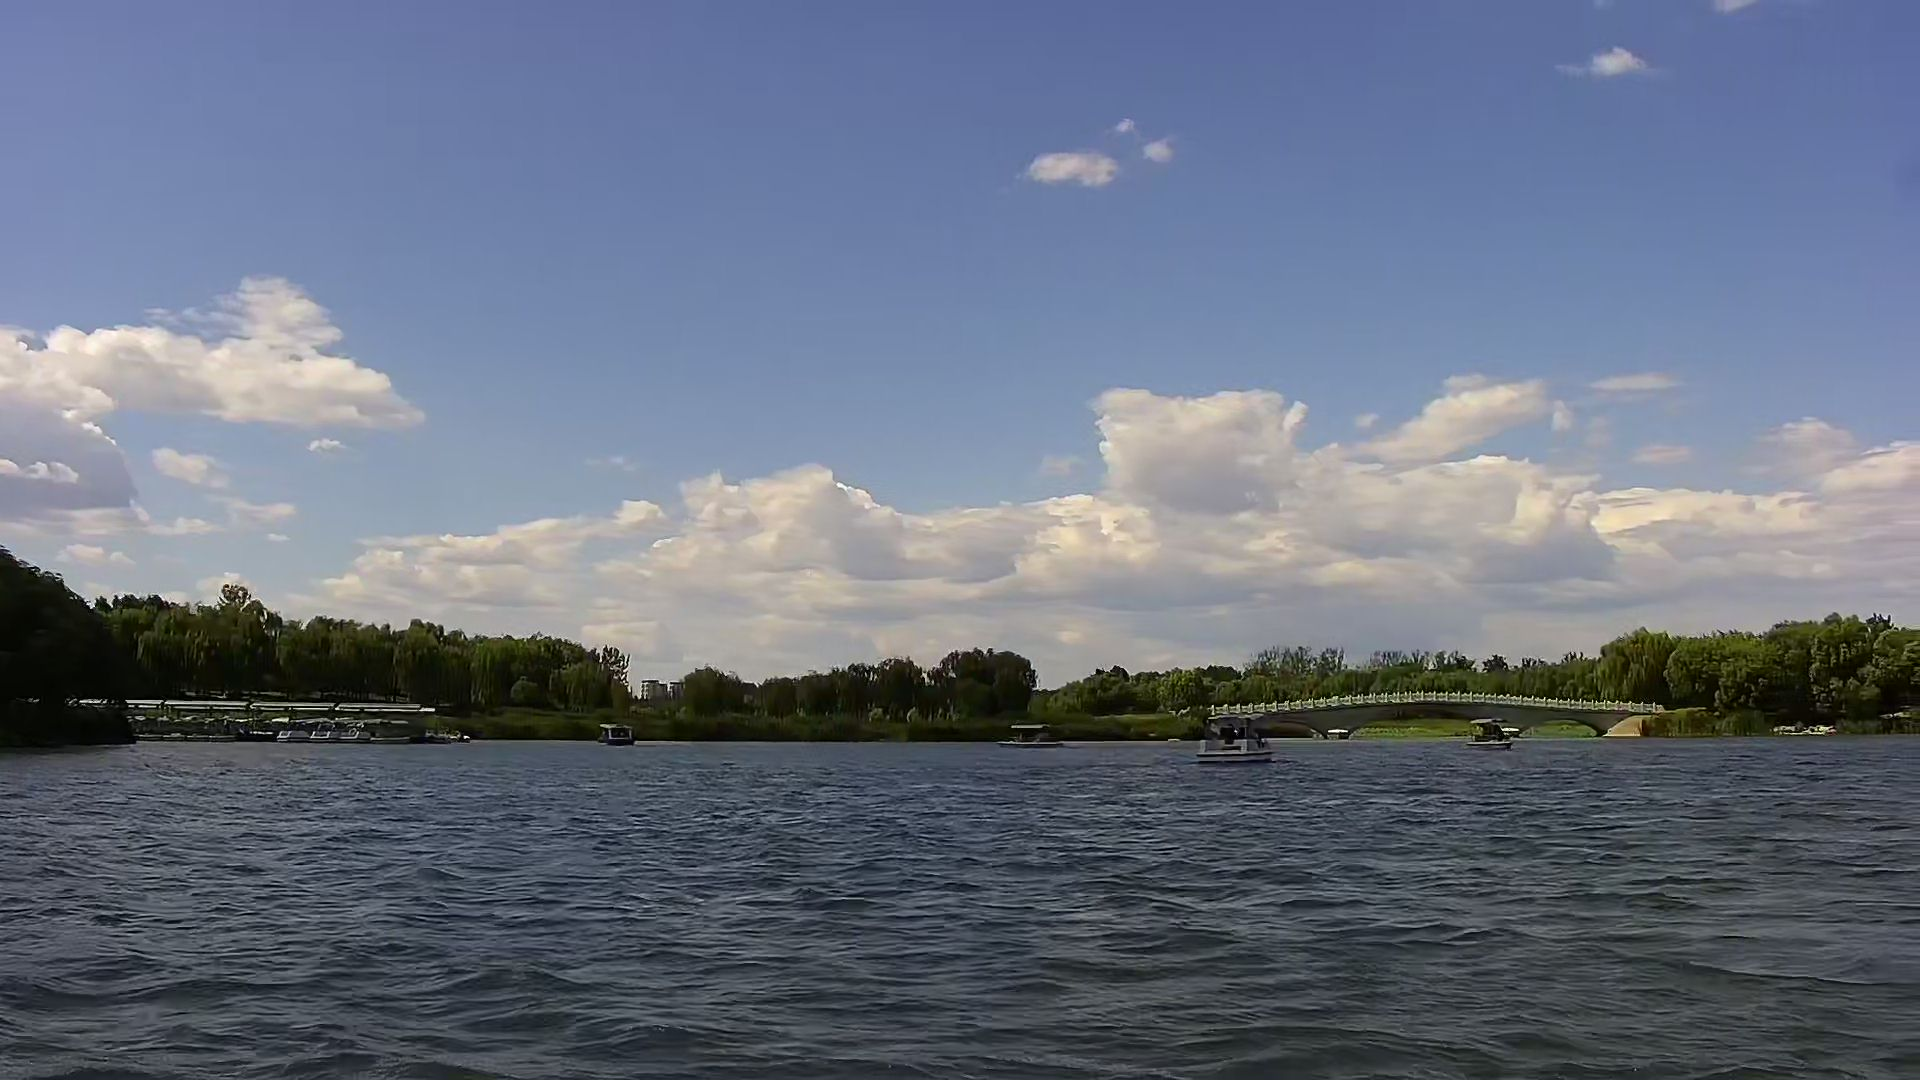boat: (1191, 708, 1273, 764), (1465, 709, 1534, 753), (1006, 716, 1065, 754), (593, 712, 645, 756)
bridge: (1195, 686, 1675, 742)
